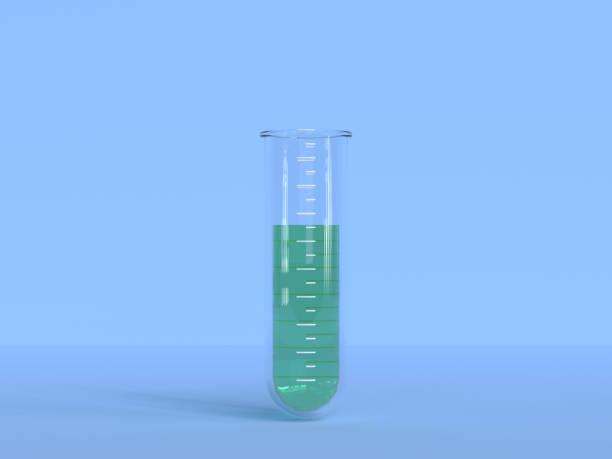Test tube: (266, 117, 345, 414)
